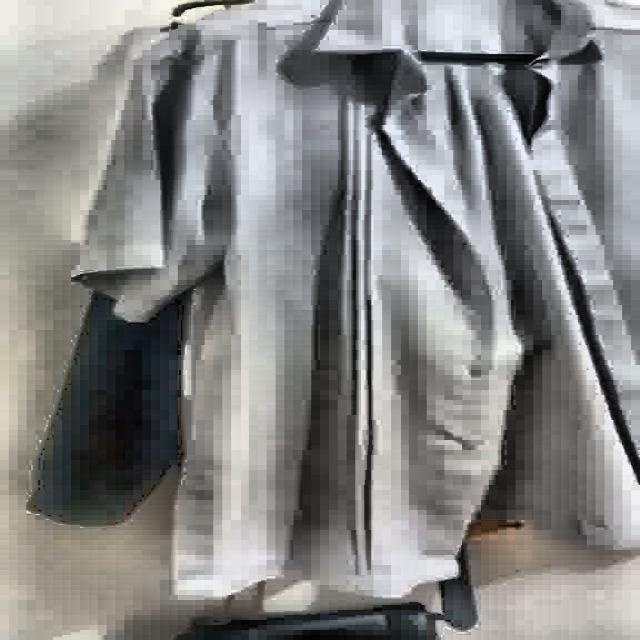clothes: (63, 0, 632, 623)
